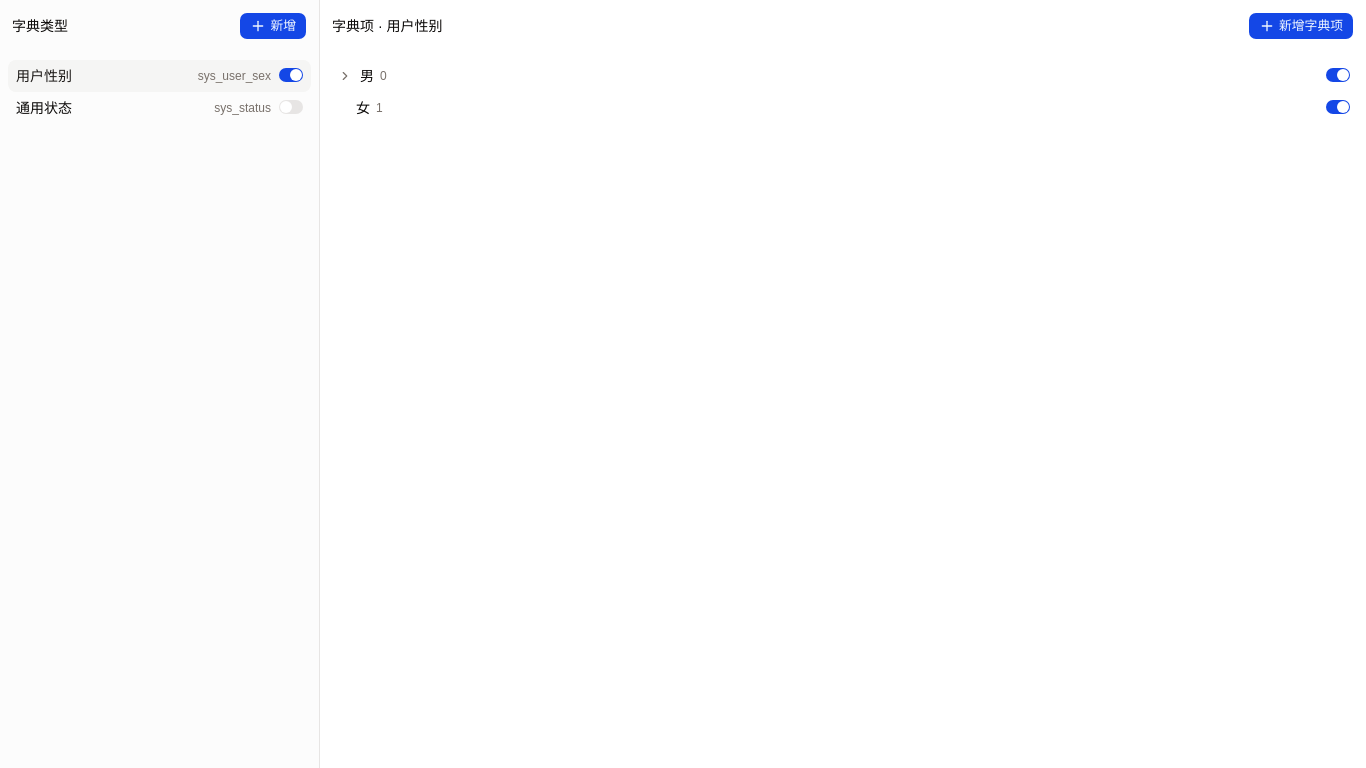
Dict page › 切换类型后加载所选类型的字典项
This screenshot has width=1366, height=768.
Expected: the text "字典项 · 用户性别" is shown, [332, 16, 442, 36]
Click the text "通用状态": (44, 108) [16, 100, 72, 116]
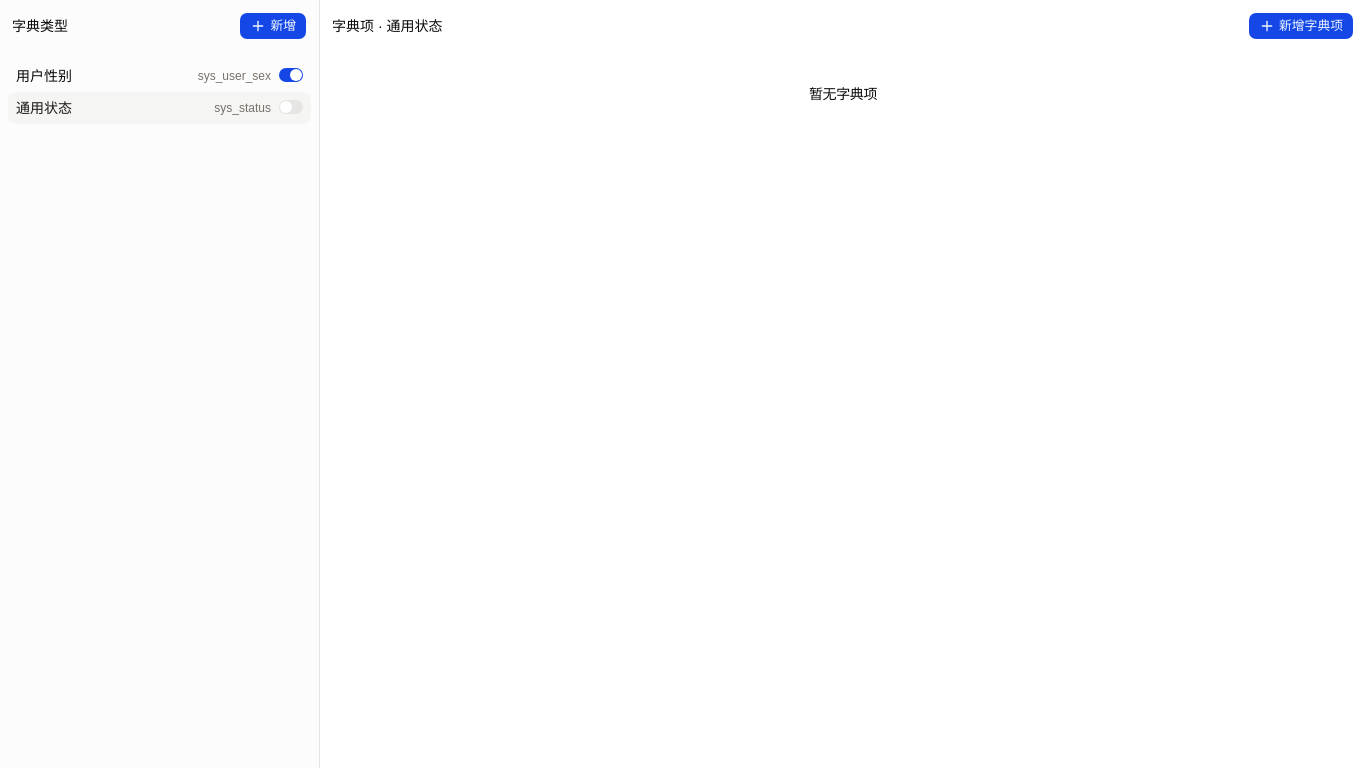
Result: the text "字典项 · 通用状态" is shown at [332, 16, 442, 36]
Result: the text "男" is gone
Result: the text "暂无字典项" is shown at [809, 84, 877, 104]
